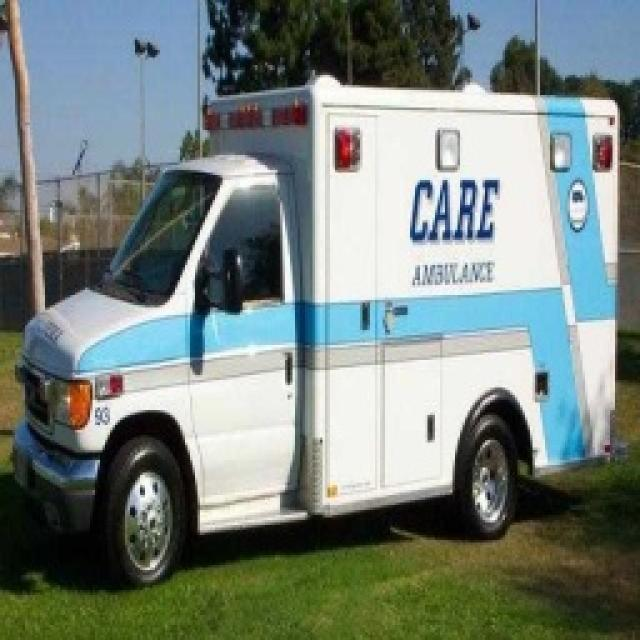emergency-vehicle: (11, 87, 620, 570)
